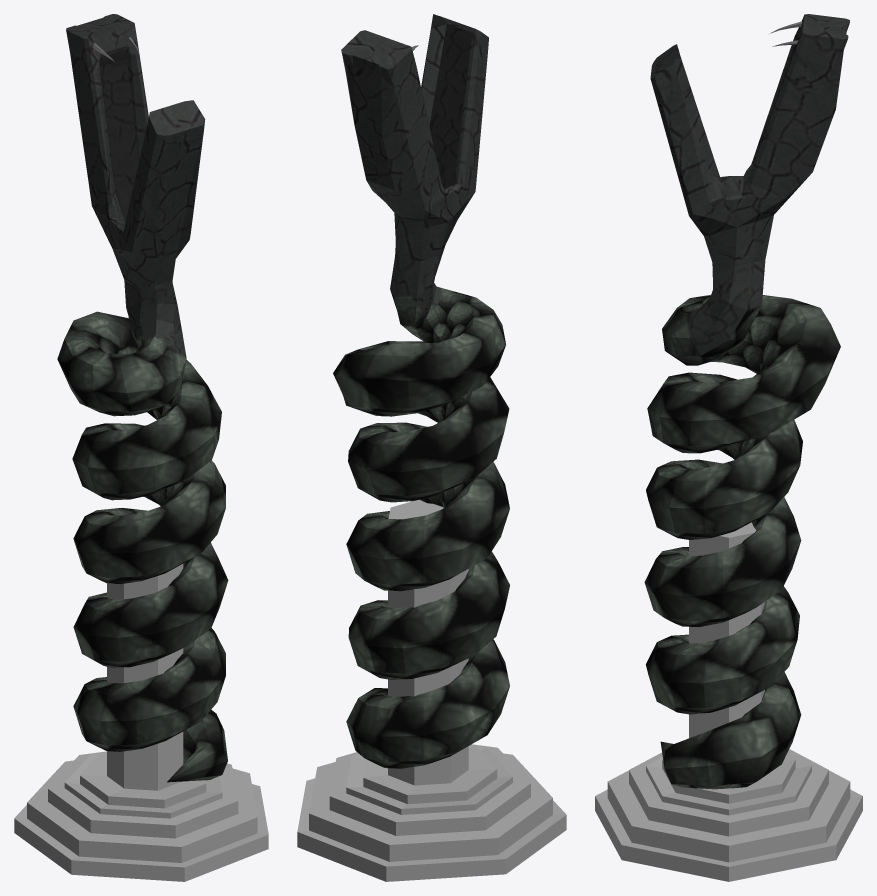
Rendered from SM_Torch_standing.fbx.
3 views of the same model, side by side, from view 1: azimuth 30°, elevation 25°; view 2: azimuth 150°, elevation 25°; view 3: azimuth 270°, elevation 25° (orthographic). The views are drawn at different scales.
Parts seen in each view (by area): view 1: polySurface30; view 2: polySurface30; view 3: polySurface30.
Part boxes in pixels (left/top/right/bottom): polySurface30: left=14, top=14, right=268, bottom=881; polySurface30: left=297, top=14, right=566, bottom=881; polySurface30: left=595, top=14, right=862, bottom=881.
Bounding box in the file's own units: 0.159 × 0.5397 × 0.1631.
